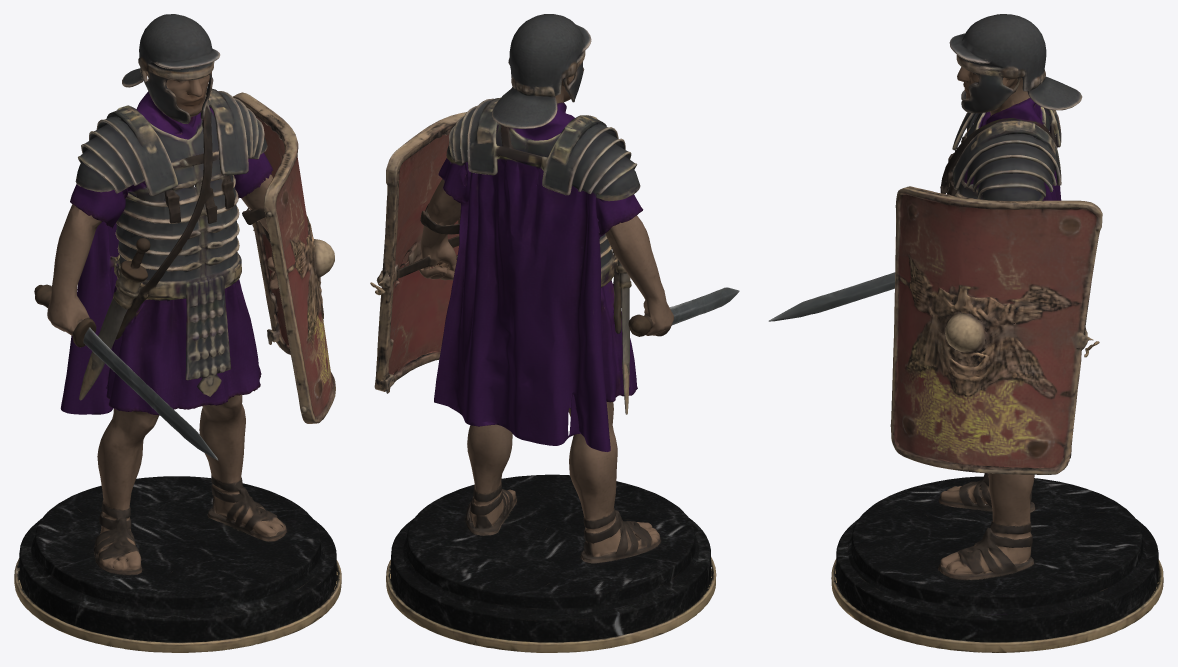
Rendered from dark_pawn.glb.
The picture shows the model from 3 angles, left to right: view 1: azimuth 30°, elevation 25°; view 2: azimuth 150°, elevation 25°; view 3: azimuth 270°, elevation 25°; orthographic projection.
Visible parts, largest first — view 1: geom0; view 2: geom0; view 3: geom0.
Part boxes in pixels (x1,y1,x2,y2): geom0: [14, 14, 341, 652]; geom0: [370, 14, 739, 652]; geom0: [768, 14, 1163, 652].
Bounding box in the file's own units: 0.5379 × 1 × 0.6327.
Materials: 1 (1 with a texture image).
